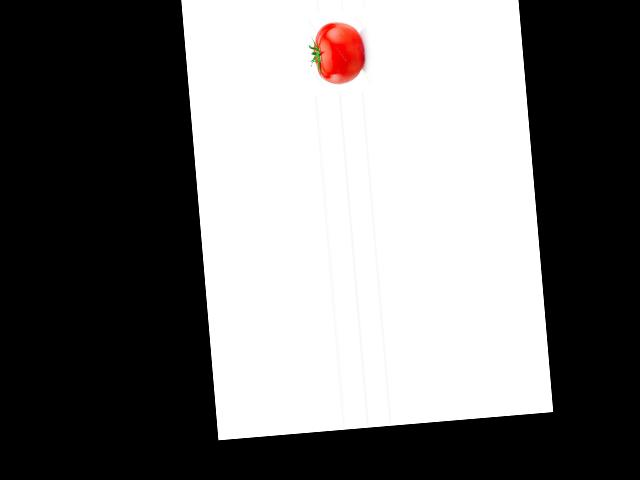tomato: (311, 19, 365, 85)
